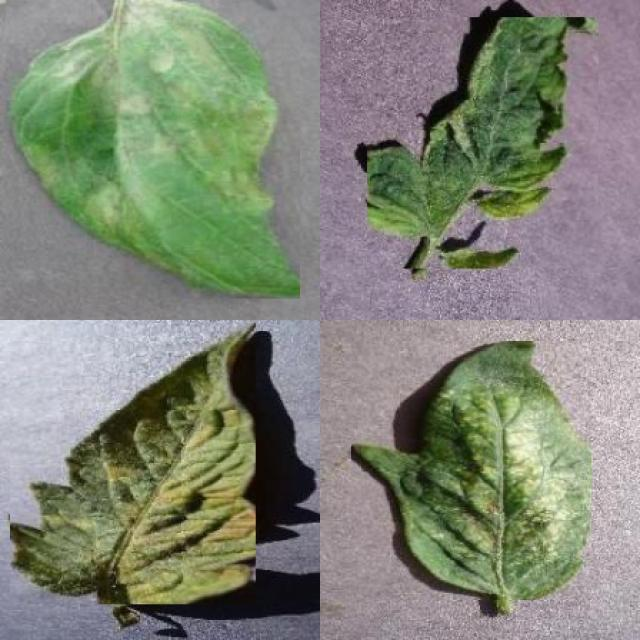Late Blight: (6, 0, 300, 299)
Leaf Mold: (10, 322, 256, 605)
Mosaic Virus: (368, 17, 599, 269)
Spider Mites: (352, 340, 592, 600)
